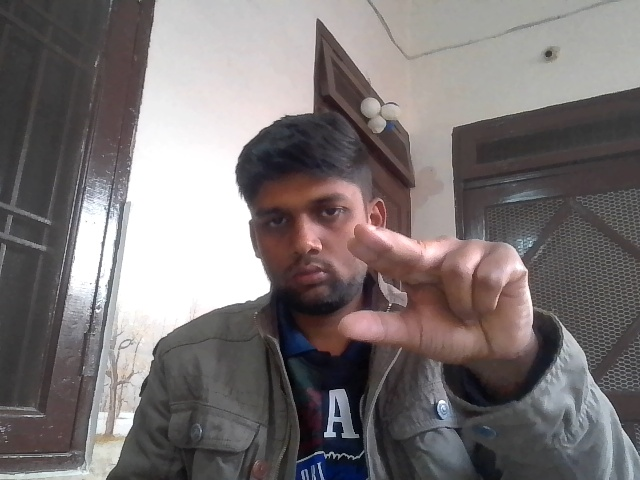No: (320, 211, 544, 369)
